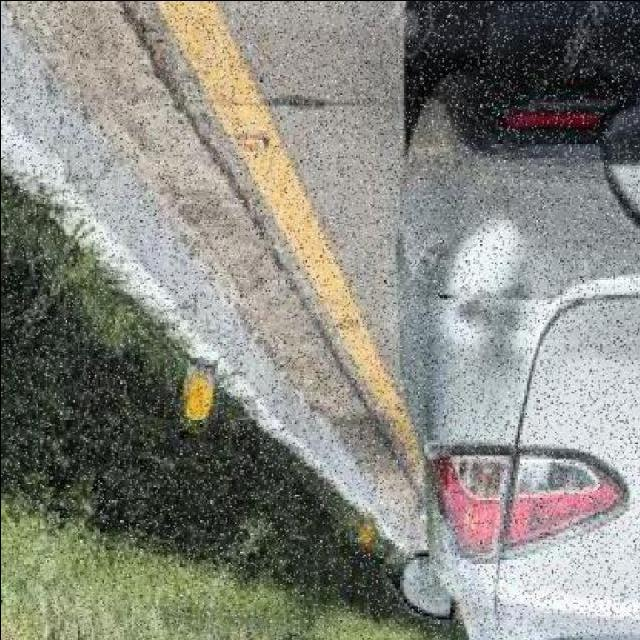rear-bumper-dent: (402, 80, 640, 371)
